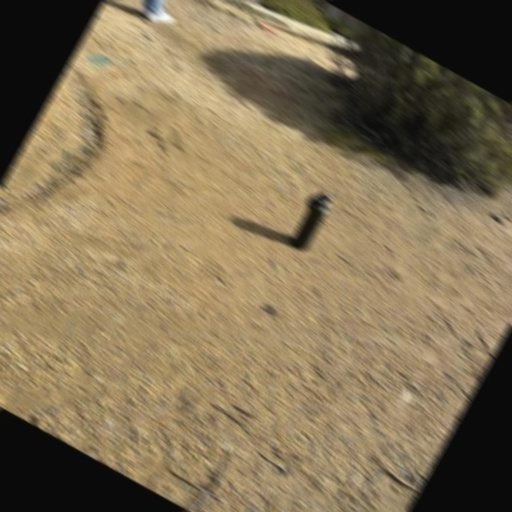bottle: (283, 187, 337, 257)
